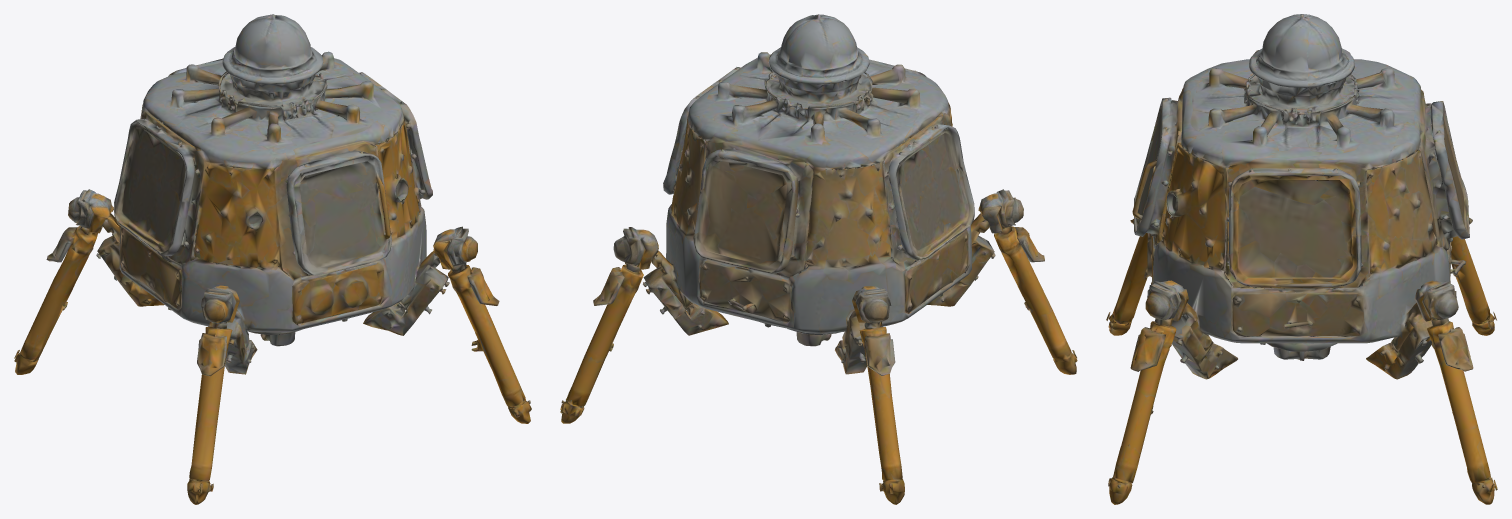
The model's file is lander.glb.
3 views of the same model, side by side, from view 1: azimuth 30°, elevation 25°; view 2: azimuth 150°, elevation 25°; view 3: azimuth 270°, elevation 25° (orthographic). The views are drawn at different scales.
Bounding box in the file's own units: 1.76 × 1.9 × 1.66.
1 material, 1 textured.
